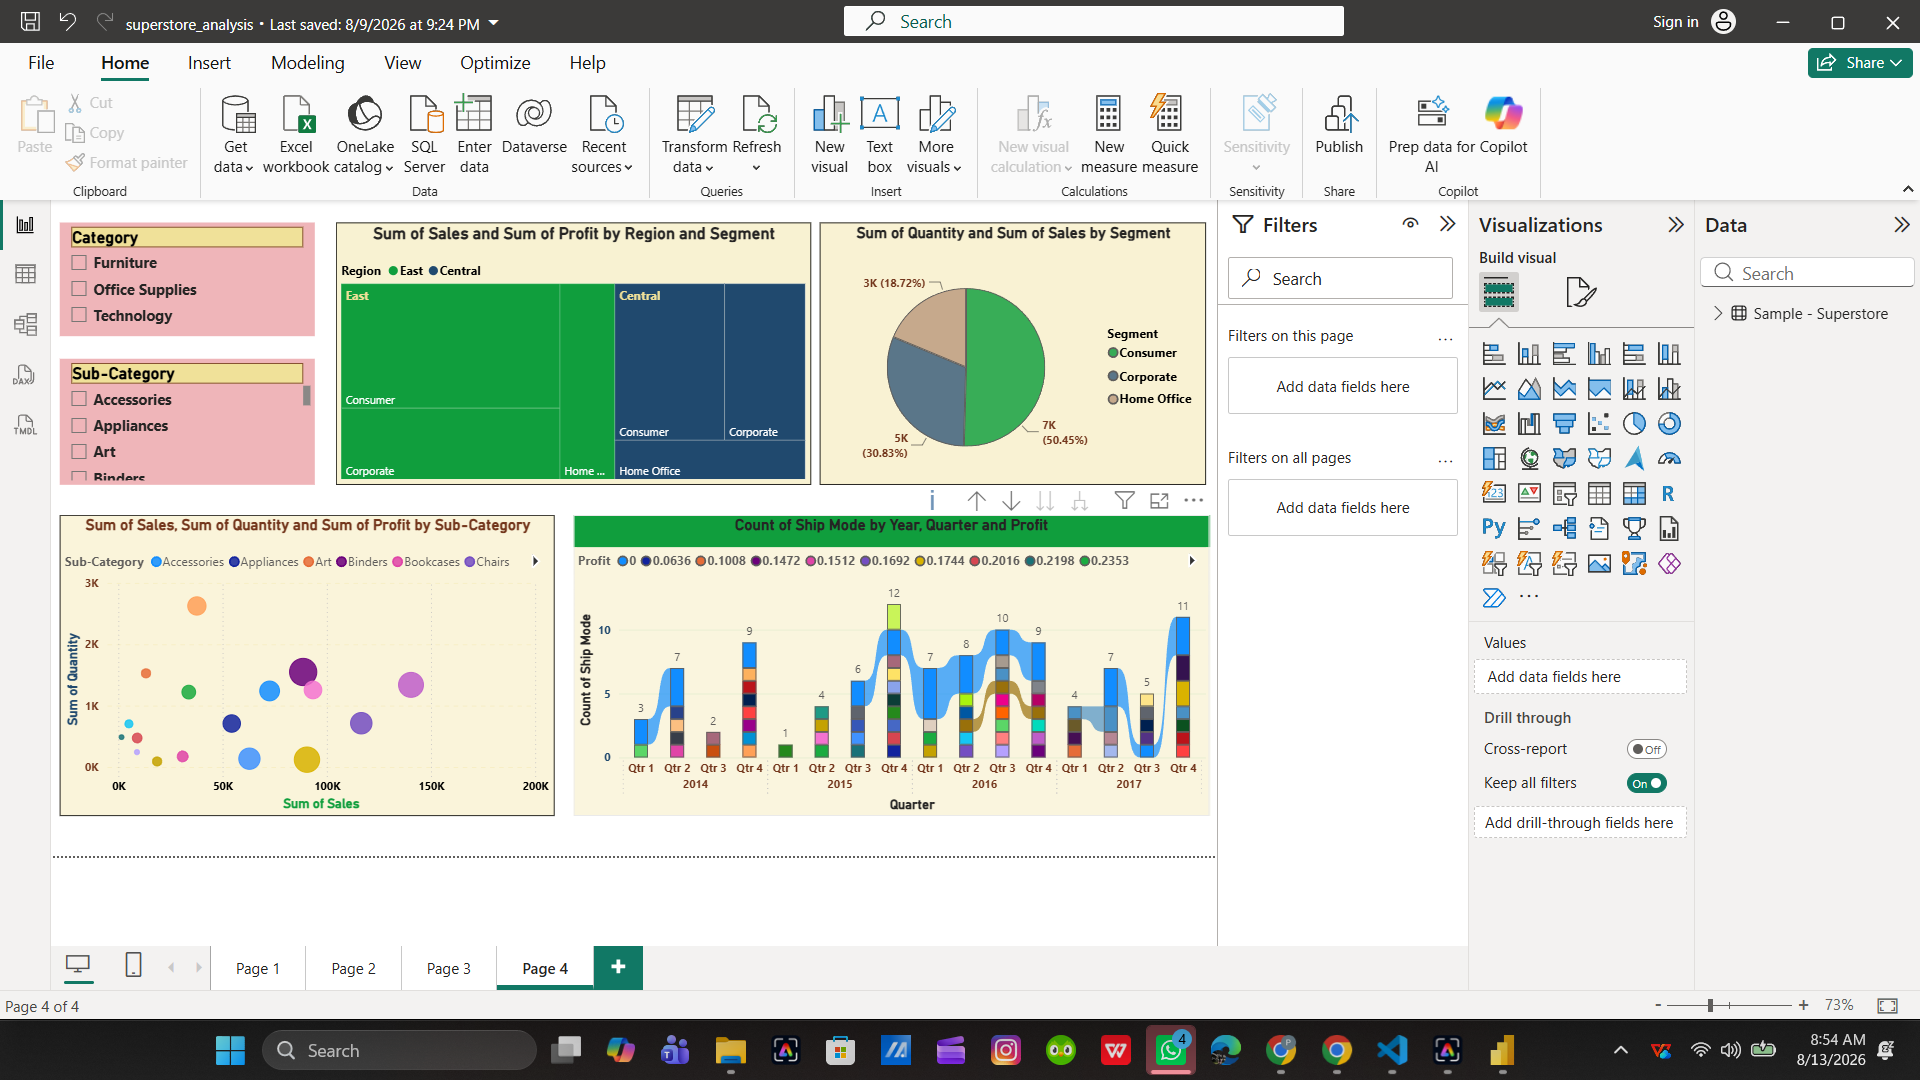

This screenshot's page, from the dashboard's own definition file:
{"tool":"powerbi","page":{"name":"Page 4","canvas":[1280,720],"ordinal":3},"visuals":[{"type":"slicer","fields":{"Values":["Sample - Superstore.Category"]},"box":[9.6,24.7,279.9,124.9],"z":0},{"type":"slicer","fields":{"Values":["Sample - Superstore.Sub-Category"]},"box":[9.6,174.3,279.9,138.6],"z":1000},{"type":"treemap","fields":{"Group":["Sample - Superstore.Region"],"Details":["Sample - Superstore.Segment"],"Values":["Sum(Sample - Superstore.Sales)"]},"box":[312.9,24.7,521.4,288.2],"z":2000},{"type":"pieChart","fields":{"Category":["Sample - Superstore.Segment"],"Y":["Sum(Sample - Superstore.Quantity)"]},"box":[843.9,24.7,424,288.2],"z":2001},{"type":"scatterChart","fields":{"Series":["Sample - Superstore.Sub-Category"],"X":["Sum(Sample - Superstore.Sales)"],"Y":["Sum(Sample - Superstore.Quantity)"],"Size":["Sum(Sample - Superstore.Profit)"]},"box":[9.6,345.8,543.4,330.7],"z":2002},{"type":"ribbonChart","fields":{"Series":["Sample - Superstore.Profit"],"Category":["Sample - Superstore.Order Date.Variation.Date Hierarchy.Year","Sample - Superstore.Order Date.Variation.Date Hierarchy.Quarter"],"Y":["CountNonNull(Sample - Superstore.Ship Mode)"]},"box":[573.6,345.8,698.5,330.7],"z":2003}]}

Visuals, with their boxes on the page's 1280x720 design canvas (x1, y1, x2, y2). These are canvas units, not pixel positions in the 1920x1080 screenshot, which may show the page scaled, cropped or inside an application window:
slicer - Sample - Superstore.Category: detection(10, 25, 290, 150)
slicer - Sample - Superstore.Sub-Category: detection(10, 174, 290, 313)
treemap - Sample - Superstore.Region x Sample - Superstore.Segment: detection(313, 25, 834, 313)
pieChart - Sample - Superstore.Segment x Sum(Sample - Superstore.Quantity): detection(844, 25, 1268, 313)
scatterChart - Sample - Superstore.Sub-Category x Sum(Sample - Superstore.Sales): detection(10, 346, 553, 676)
ribbonChart - Sample - Superstore.Profit x Sample - Superstore.Order Date.Variation.Date Hierarchy.Year: detection(574, 346, 1272, 676)
